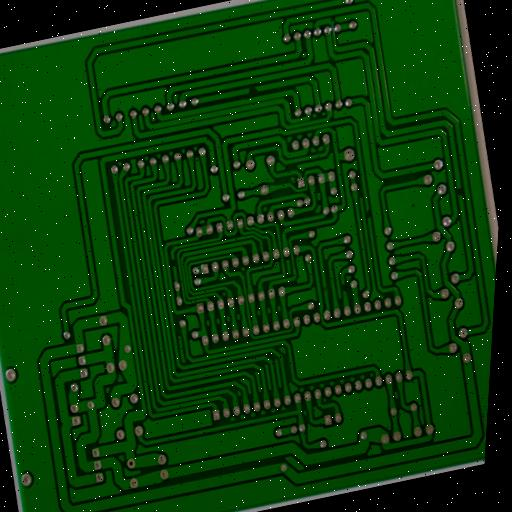open_circuit: (454, 182, 467, 202), (244, 83, 262, 95), (363, 203, 373, 221), (169, 255, 179, 269), (339, 280, 348, 294)
